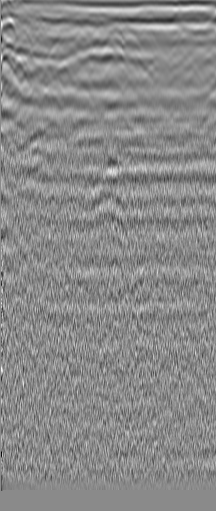오수: (28, 31, 48, 51)
우수: (171, 25, 191, 45)
